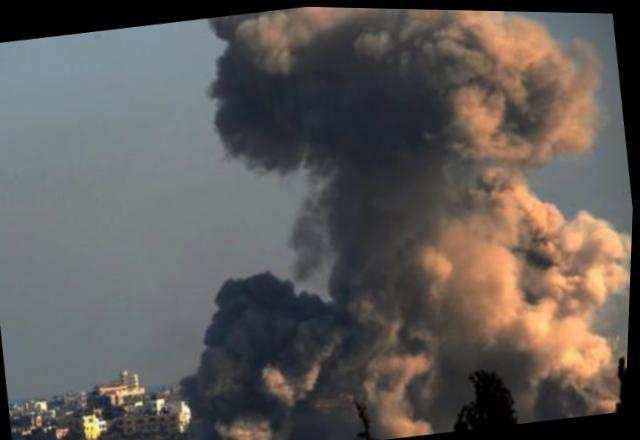smoke: (182, 3, 395, 190), (373, 7, 617, 170), (420, 141, 635, 308), (171, 306, 429, 439), (415, 283, 631, 426), (285, 154, 445, 321), (196, 257, 304, 335)
